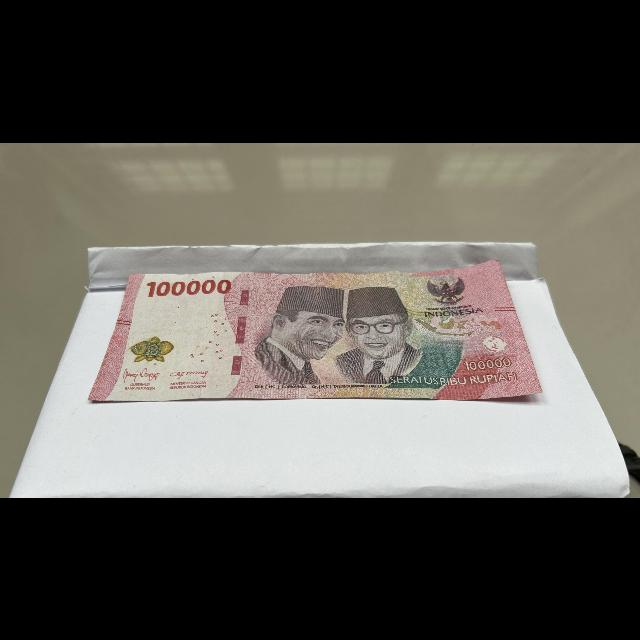Palsu-100k: (83, 256, 548, 402)
Tinta-Palsu-100k: (126, 334, 178, 363)
